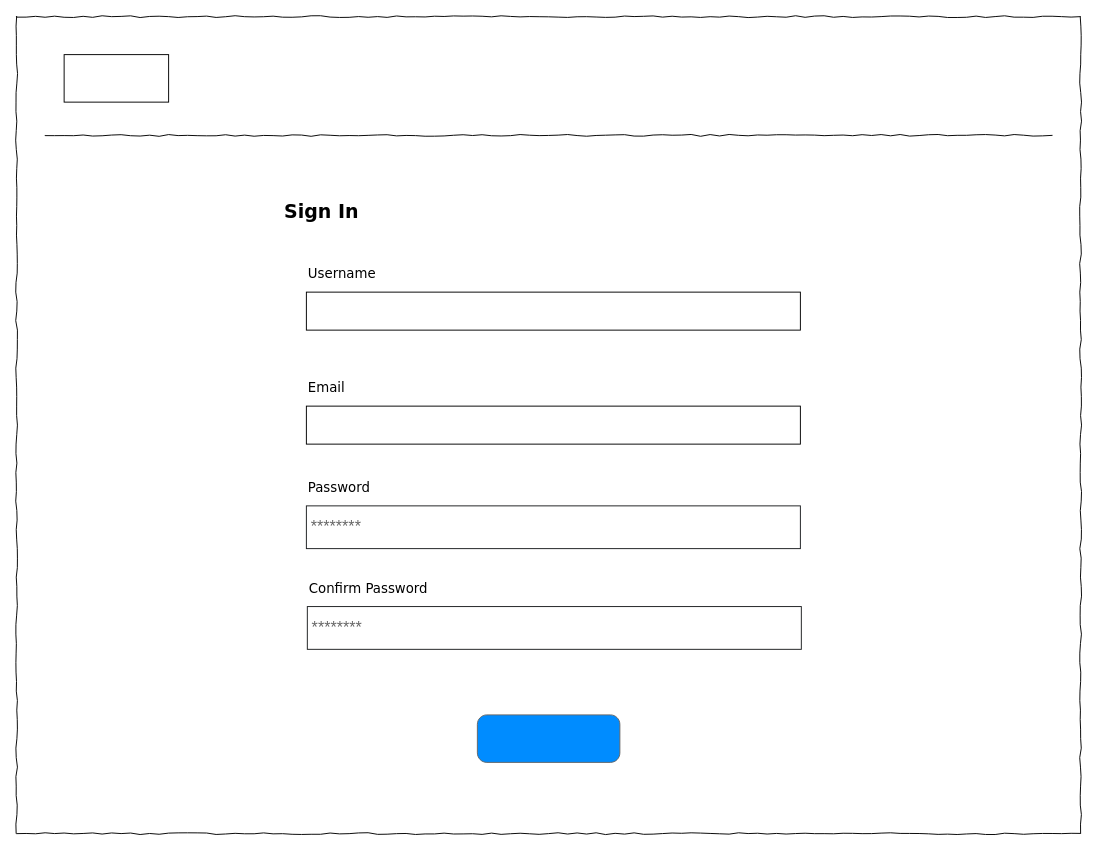
This 1097x850 diagram has some shape labels left out. The centre of each missing label's shape, as x and y in pixels:
"Login" goes at point (548, 738).
"LOGO" goes at point (116, 78).
